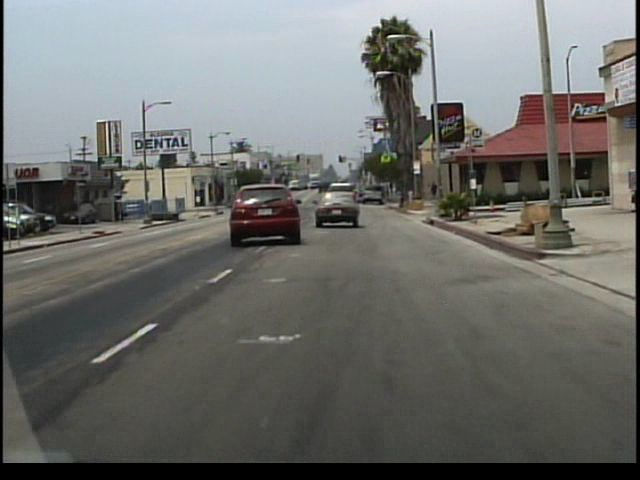person: (430, 180, 438, 199)
